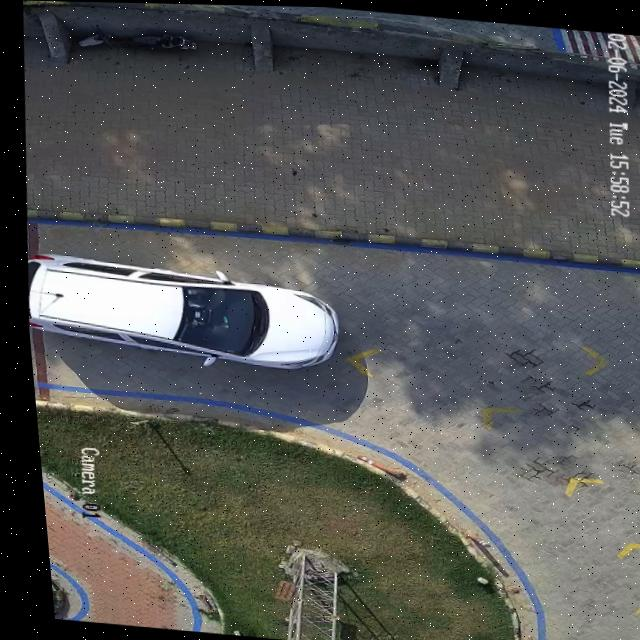car: (23, 253, 331, 368)
